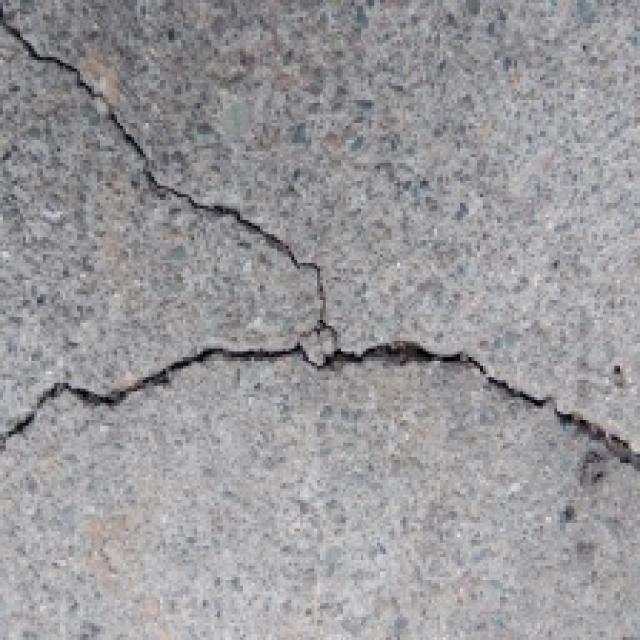crack: (0, 302, 640, 518), (0, 0, 360, 352)
